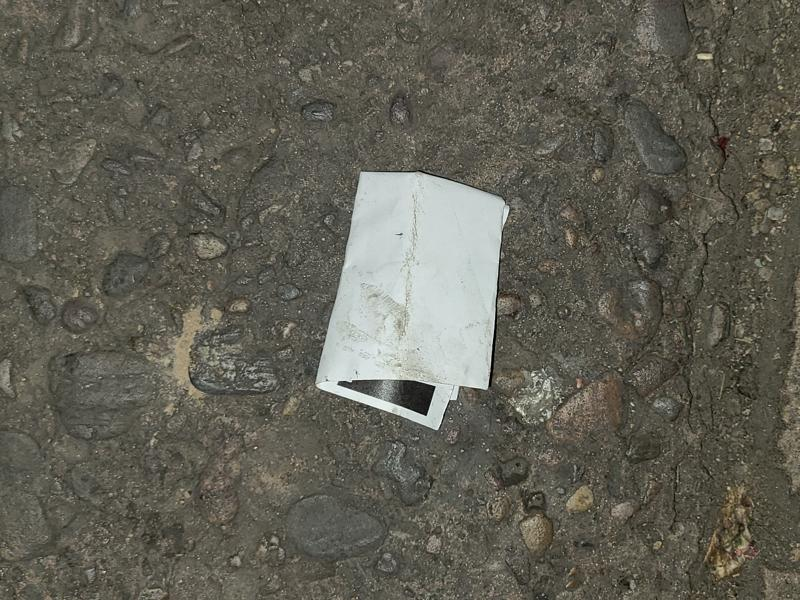papel: (314, 172, 508, 430)
